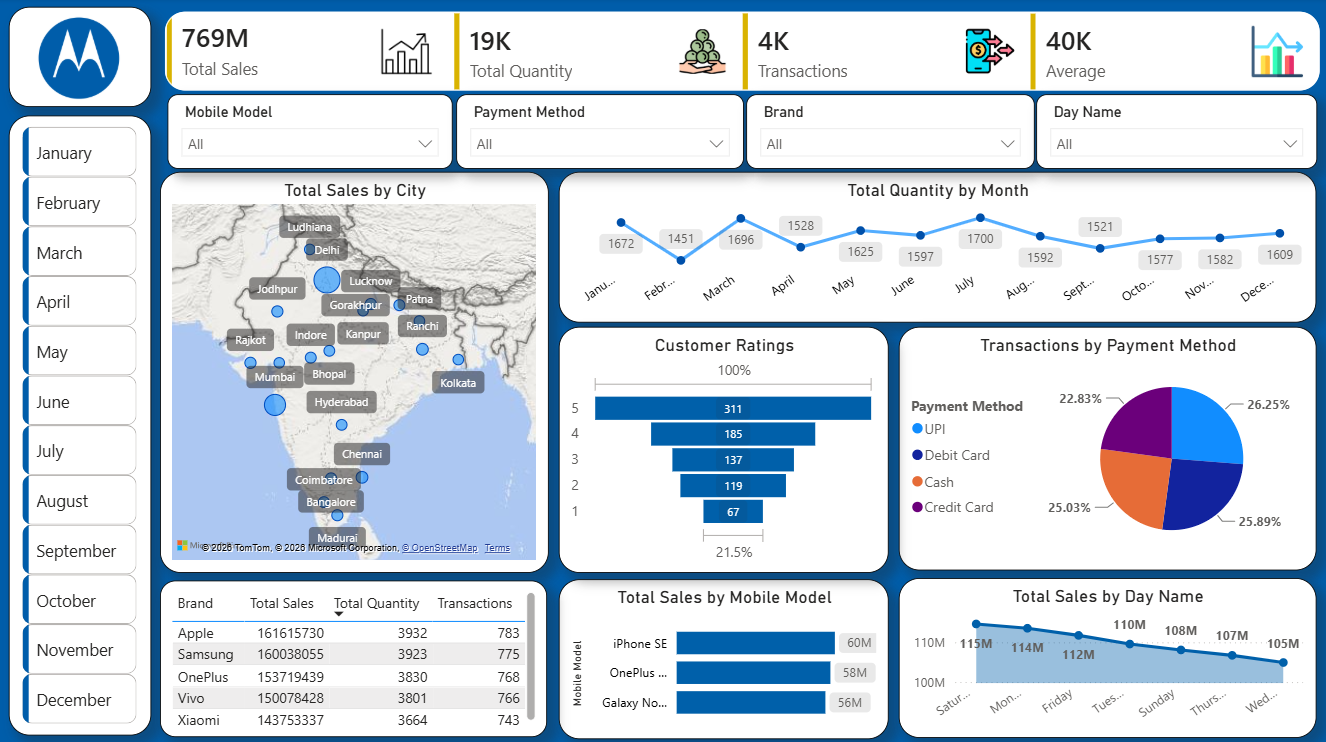

The page's visual inventory and layout, read from the dashboard file:
{"tool":"powerbi","page":{"name":"Page 1","canvas":[1280,720],"ordinal":0},"visuals":[{"type":"shape","box":[8.4,8.4,137.5,96.5],"z":0},{"type":"image","box":[29,14.5,94.1,86.9],"z":1000},{"type":"shape","box":[8.4,113.4,137.5,598.4],"z":2000},{"type":"advancedSlicerVisual","fields":{"Values":["Sales_Data.Date.Variation.Date Hierarchy.Month"]},"box":[16.9,119.4,120.6,586.3],"z":3000},{"type":"cardVisual","fields":{"Data":["Sales_Data.Total Sales","Sales_Data.Total Quantity","Sales_Data.Transactions","Sales_Data.Average"]},"box":[154.4,8.4,1125.6,86.9],"z":4000},{"type":"map","fields":{"Category":["Sales_Data.City"],"Size":["Sales_Data.Total Sales"]},"box":[154.4,167.7,375.2,387.3],"z":5000},{"type":"lineChart","fields":{"Category":["Sales_Data.Date.Variation.Date Hierarchy.Month","Sales_Data.Date.Variation.Date Hierarchy.Day"],"Y":["Sales_Data.Total Quantity"]},"box":[539.3,167.7,731.1,146],"z":5001},{"type":"clusteredBarChart","fields":{"Category":["Sales_Data.Mobile Model"],"Y":["Sales_Data.Total Sales"]},"box":[539.3,561,318.5,154.4],"z":5002},{"type":"pieChart","fields":{"Category":["Sales_Data.Payment Method"],"Y":["Sales_Data.Transactions"]},"box":[867.4,317.3,403,235.3],"z":5003},{"type":"funnel","title":"Customer Ratings","fields":{"Category":["Sales_Data.Customer Ratings"],"Y":["CountNonNull(Sales_Data.Customer Ratings)"]},"box":[539.3,317.3,318.5,237.7],"z":5004},{"type":"areaChart","fields":{"Category":["Sales_Data.Day Name"],"Y":["Sales_Data.Total Sales"]},"box":[867.4,559.8,403,154.4],"z":5005},{"type":"tableEx","fields":{"Values":["Sales_Data.Brand","Sales_Data.Total Sales","Sales_Data.Total Quantity","Sales_Data.Transactions"]},"box":[154.4,562.2,374,150.8],"z":5006},{"type":"slicer","fields":{"Values":["Sales_Data.Mobile Model"]},"box":[161.7,92.9,275.1,72.4],"z":5007},{"type":"slicer","fields":{"Values":["Sales_Data.Payment Method"]},"box":[440.4,92.9,277.5,72.4],"z":5008},{"type":"slicer","fields":{"Values":["Sales_Data.Brand"]},"box":[720.2,92.9,278.7,72.4],"z":5009},{"type":"slicer","fields":{"Values":["Sales_Data.Day Name"]},"box":[1000.1,92.9,271.4,72.4],"z":5010}]}

Visuals, with their boxes in screenshot pixels (x1, y1, x2, y2), scaled from the page's 1280x720 canvas onto the 1326x742 screenshot:
shape: pyautogui.locateOnScreen(9, 9, 151, 108)
image: pyautogui.locateOnScreen(30, 15, 128, 104)
shape: pyautogui.locateOnScreen(9, 117, 151, 734)
advancedSlicerVisual - Sales_Data.Date.Variation.Date Hierarchy.Month: pyautogui.locateOnScreen(18, 123, 142, 727)
cardVisual - Sales_Data.Total Sales x Sales_Data.Total Quantity: pyautogui.locateOnScreen(160, 9, 1325, 98)
map - Sales_Data.City x Sales_Data.Total Sales: pyautogui.locateOnScreen(160, 173, 549, 572)
lineChart - Sales_Data.Date.Variation.Date Hierarchy.Month x Sales_Data.Date.Variation.Date Hierarchy.Day: pyautogui.locateOnScreen(559, 173, 1316, 323)
clusteredBarChart - Sales_Data.Mobile Model x Sales_Data.Total Sales: pyautogui.locateOnScreen(559, 578, 889, 737)
pieChart - Sales_Data.Payment Method x Sales_Data.Transactions: pyautogui.locateOnScreen(899, 327, 1316, 569)
"Customer Ratings" funnel: pyautogui.locateOnScreen(559, 327, 889, 572)
areaChart - Sales_Data.Day Name x Sales_Data.Total Sales: pyautogui.locateOnScreen(899, 577, 1316, 736)
tableEx - Sales_Data.Brand x Sales_Data.Total Sales: pyautogui.locateOnScreen(160, 579, 547, 735)
slicer - Sales_Data.Mobile Model: pyautogui.locateOnScreen(168, 96, 452, 170)
slicer - Sales_Data.Payment Method: pyautogui.locateOnScreen(456, 96, 744, 170)
slicer - Sales_Data.Brand: pyautogui.locateOnScreen(746, 96, 1035, 170)
slicer - Sales_Data.Day Name: pyautogui.locateOnScreen(1036, 96, 1317, 170)
